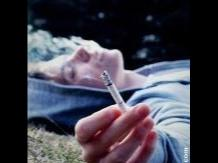Cigarette: (101, 70, 130, 112)
Smoke: (28, 24, 102, 78)
